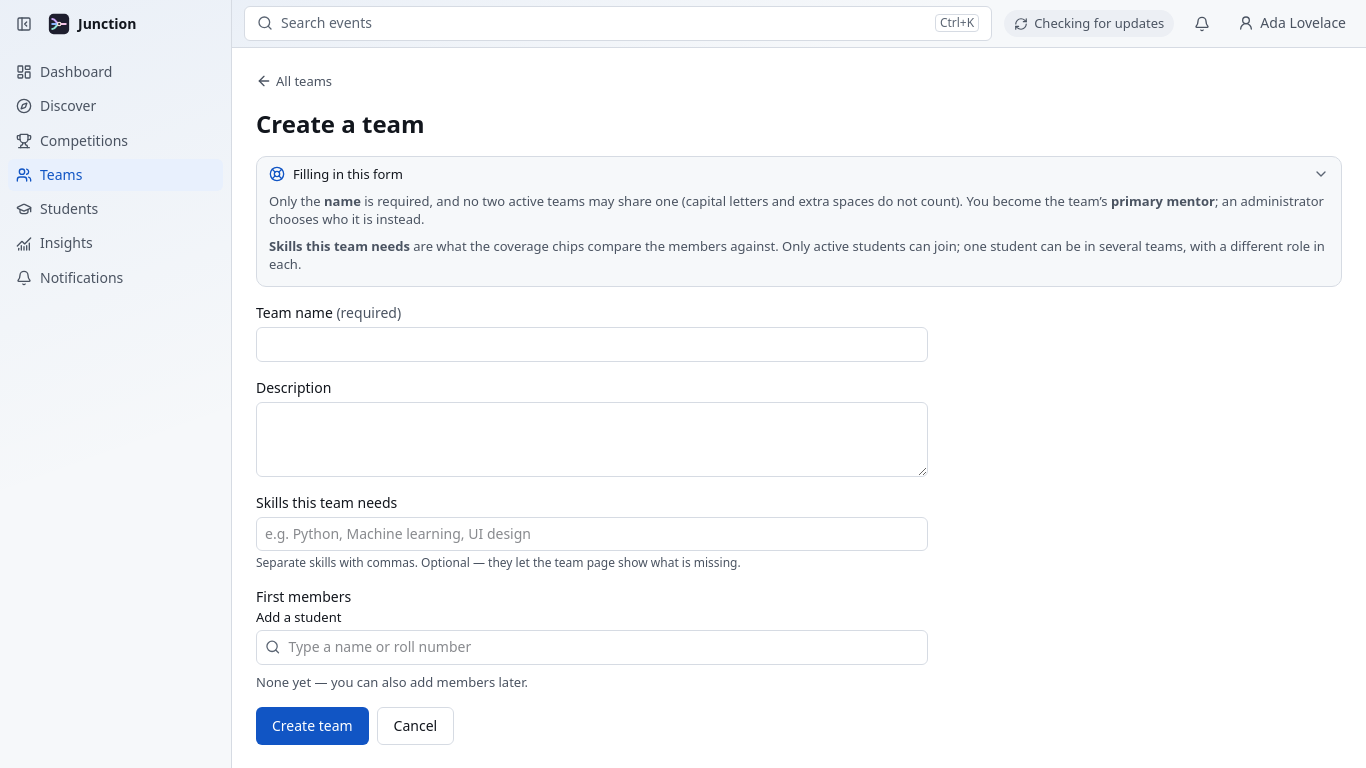
Test: the create form › says what is wrong without asking the server
This screenshot has width=1366, height=768.
Expected: the navigation bar named "Main" is shown, [0,0,231,302]
Expected: the heading "Create a team" is shown, [256,107,425,140]
Click the button "Create team": point(312, 726) [256,707,369,745]
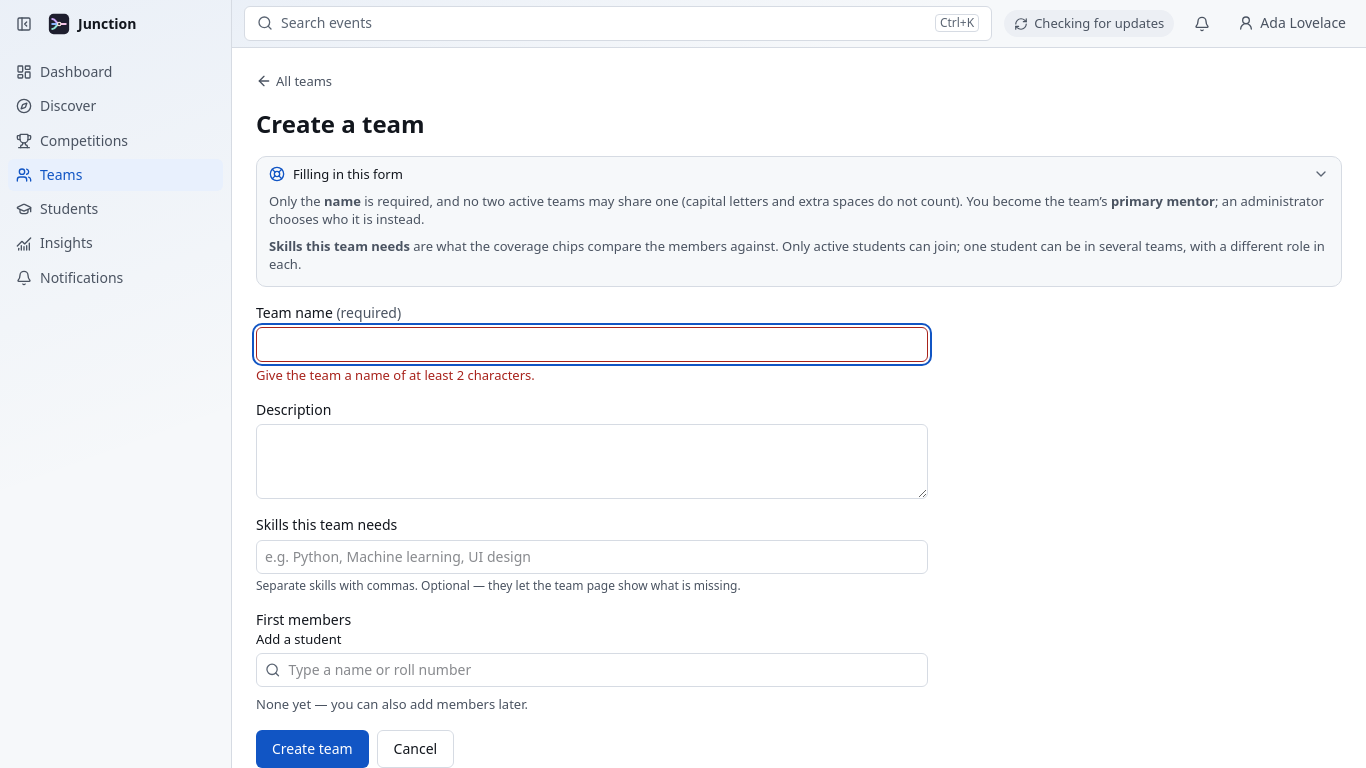
Expected: the text "Give the team a name of at least 2 characters." is shown, [256,366,535,384]
